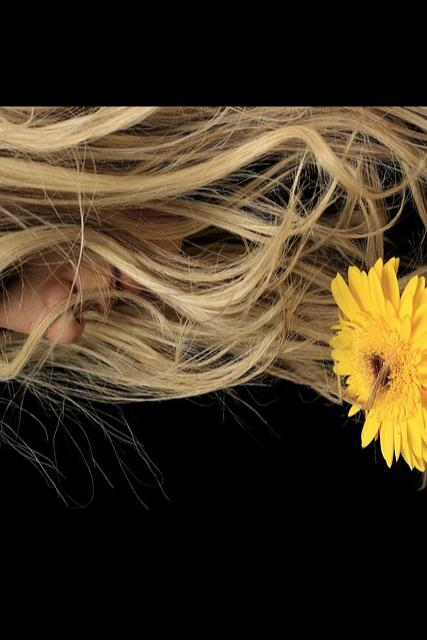Non_Gorille: (0, 111, 427, 490)
